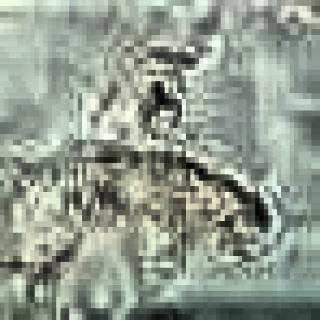pothole: (54, 132, 265, 304), (136, 66, 190, 128)
